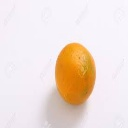orange: (54, 39, 98, 110)
